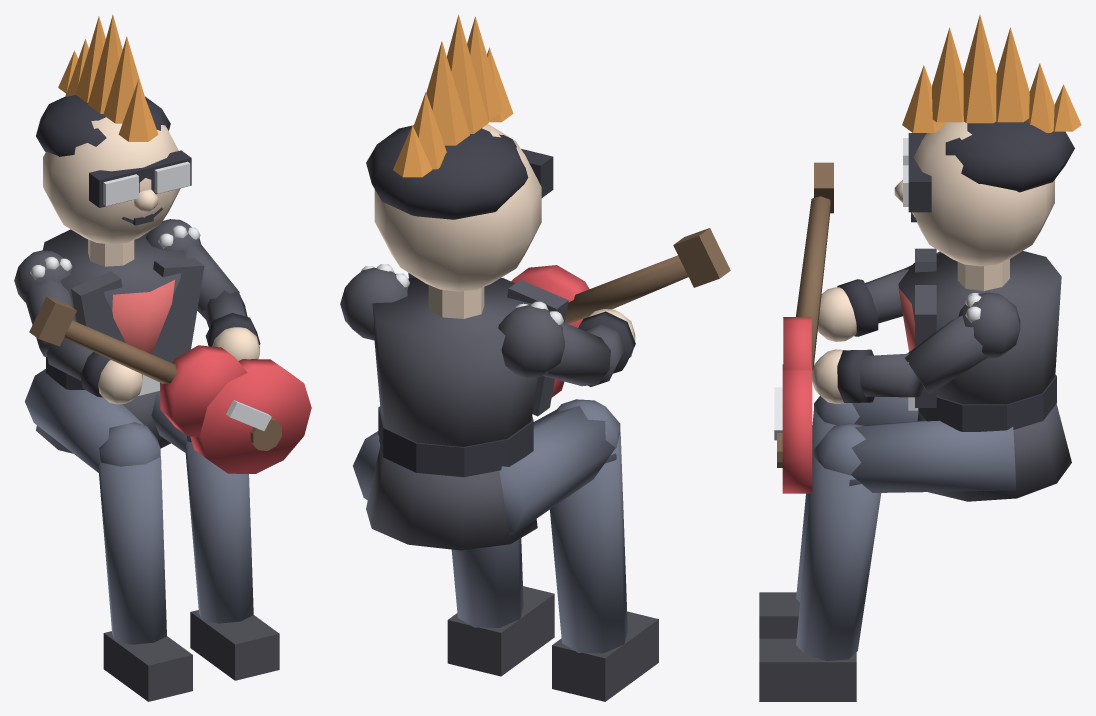
File: meeple_14_rockstar.glb
The picture shows the model from 3 angles, left to right: view 1: azimuth 30°, elevation 25°; view 2: azimuth 150°, elevation 25°; view 3: azimuth 270°, elevation 25°; orthographic projection. The views are drawn at different scales.
Visible parts, largest first — view 1: meeple_14_rockstar; view 2: meeple_14_rockstar; view 3: meeple_14_rockstar.
Part boxes in pixels (bbox=[...]): meeple_14_rockstar: bbox=[14, 14, 311, 701]; meeple_14_rockstar: bbox=[340, 14, 730, 701]; meeple_14_rockstar: bbox=[759, 14, 1081, 701].
Size of the model in its own units: 0.6876 by 1.52 by 0.6785.
